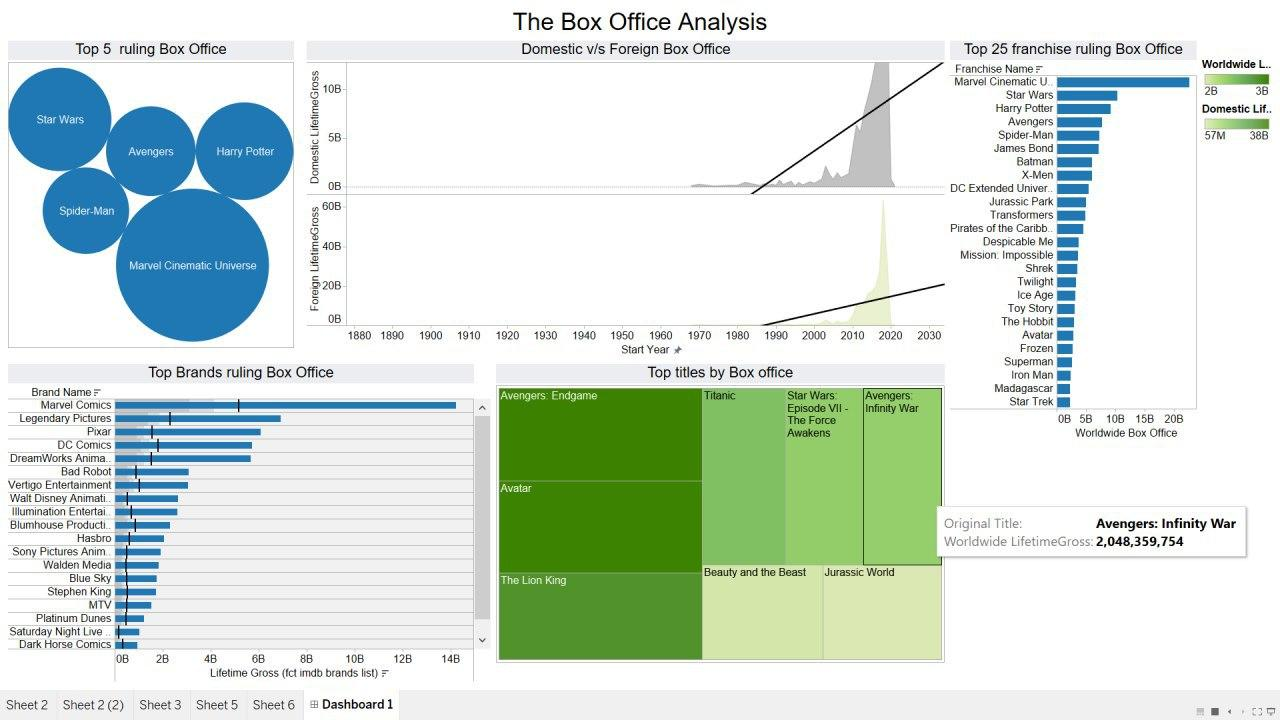

The page's visual inventory and layout, read from the dashboard file:
{"tool":"tableau","page":{"name":"Dashboard 1","canvas":[1000,1000],"units":"permille","ordinal":0},"visuals":[{"type":"worksheet","title":"Sheet 2 (2)","mark":"Circle","box":[5.3,9.3,228.8,490.7]},{"type":"worksheet","title":"Sheet 6","mark":"Automatic","rows":["Domestic_LifetimeGross","Foreign_LifetimeGross"],"cols":["startYear"],"box":[234,9.3,457.5,490.7]},{"type":"worksheet","title":"Sheet 2","mark":"Automatic","rows":["Franchise_Name"],"cols":["Worldwide_Box_Office"],"box":[691.5,9.3,228.8,981.4]},{"type":"legend","title":"Sheet 2 (2)","param":"[federated.03vbp611k8hdht1e9fm7d1oq0mfk].[sum:Worldwide_Box_Office:qk]","box":[920.3,9.3,74.4,27.9]},{"type":"legend","title":"Sheet 5","param":"[federated.0r2nrgm14vzdhv1fhs53w0p6ha99].[sum:Worldwide_LifetimeGross:qk]","box":[920.3,37.2,74.4,84.8]},{"type":"legend","title":"Sheet 6","param":"[federated.0r2nrgm14vzdhv1fhs53w0p6ha99].[sum:Domestic_LifetimeGross:qk]","box":[920.3,121.9,74.4,84.8]},{"type":"worksheet","title":"Sheet 3","mark":"Automatic","rows":["Brand_Name"],"cols":["Lifetime_Gross (fct_imdb_brands_list)"],"box":[5.3,500,457.8,490.7]},{"type":"worksheet","title":"Sheet 5","mark":"Automatic","box":[463.1,500,228.4,490.7]}]}

Visuals, with their boxes on the dashboard's canvas, which has no fixed pixel size, in thousandths of its width and height (x1, y1, x2, y2). These are canvas units, not pixel positions in the 1280x720 screenshot, which may show the page scaled, cropped or inside an application window:
"Sheet 2 (2)" worksheet (Circle marks): bbox=(5, 9, 234, 500)
"Sheet 6" worksheet: bbox=(234, 9, 692, 500)
"Sheet 2" worksheet: bbox=(692, 9, 920, 991)
"Sheet 2 (2)" legend: bbox=(920, 9, 995, 37)
"Sheet 5" legend: bbox=(920, 37, 995, 122)
"Sheet 6" legend: bbox=(920, 122, 995, 207)
"Sheet 3" worksheet: bbox=(5, 500, 463, 991)
"Sheet 5" worksheet: bbox=(463, 500, 692, 991)
